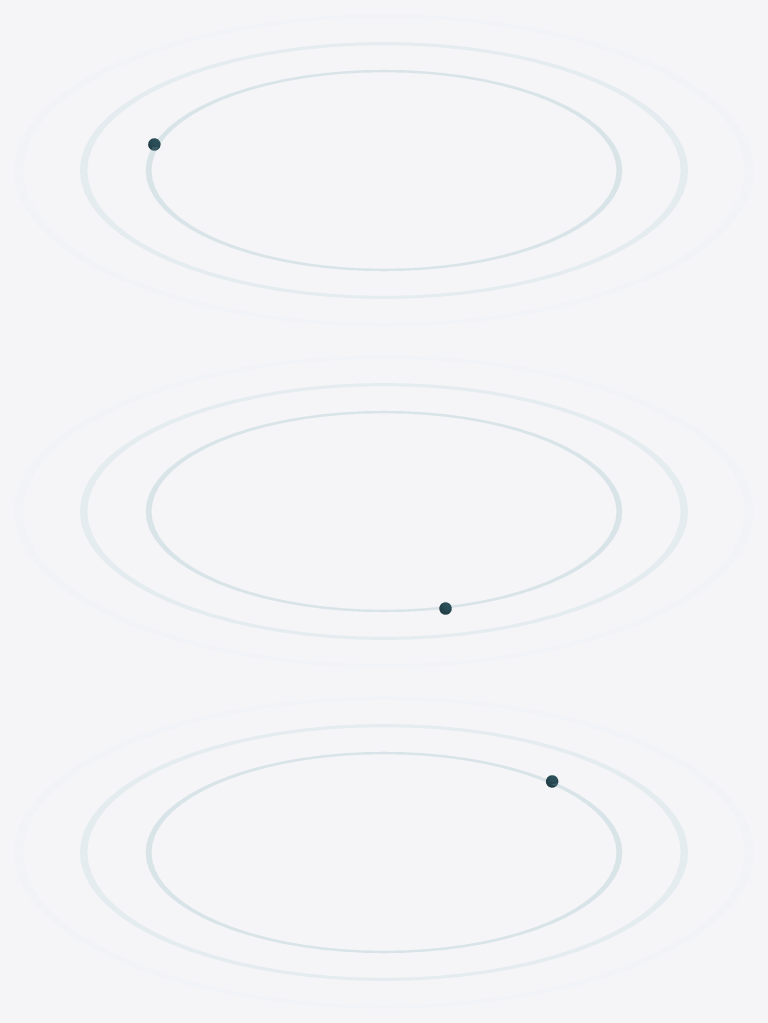
File: user-model-okfvww.glb
The picture shows the model from 3 angles, top to bottom: view 1: azimuth 30°, elevation 25°; view 2: azimuth 150°, elevation 25°; view 3: azimuth 270°, elevation 25°; orthographic projection.
Visible parts, largest first — view 1: ripple-0; view 2: ripple-0; view 3: ripple-0.
Boxes of the visible parts, x1,y1,x2,y2 form: ripple-0: [146, 70, 621, 270]; ripple-0: [146, 411, 621, 611]; ripple-0: [146, 752, 621, 952].
Size of what is drawn, in the model's own units: 3.67 by 0.0624 by 3.67.
